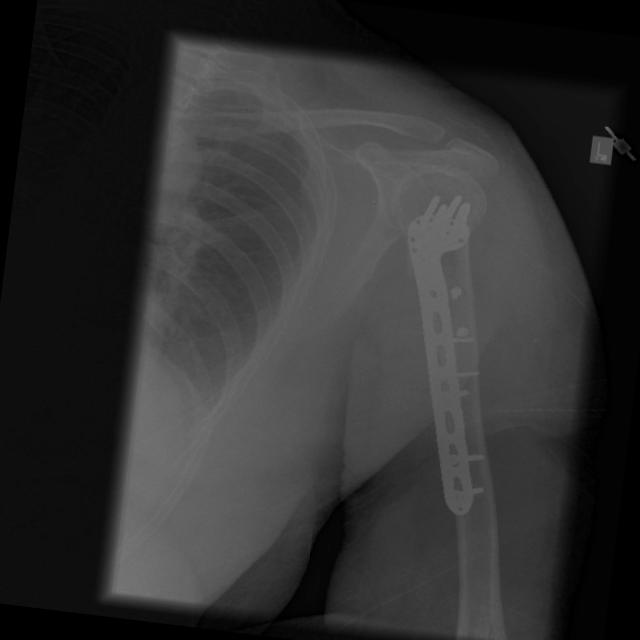shoulder fracture: (445, 233, 479, 303)
